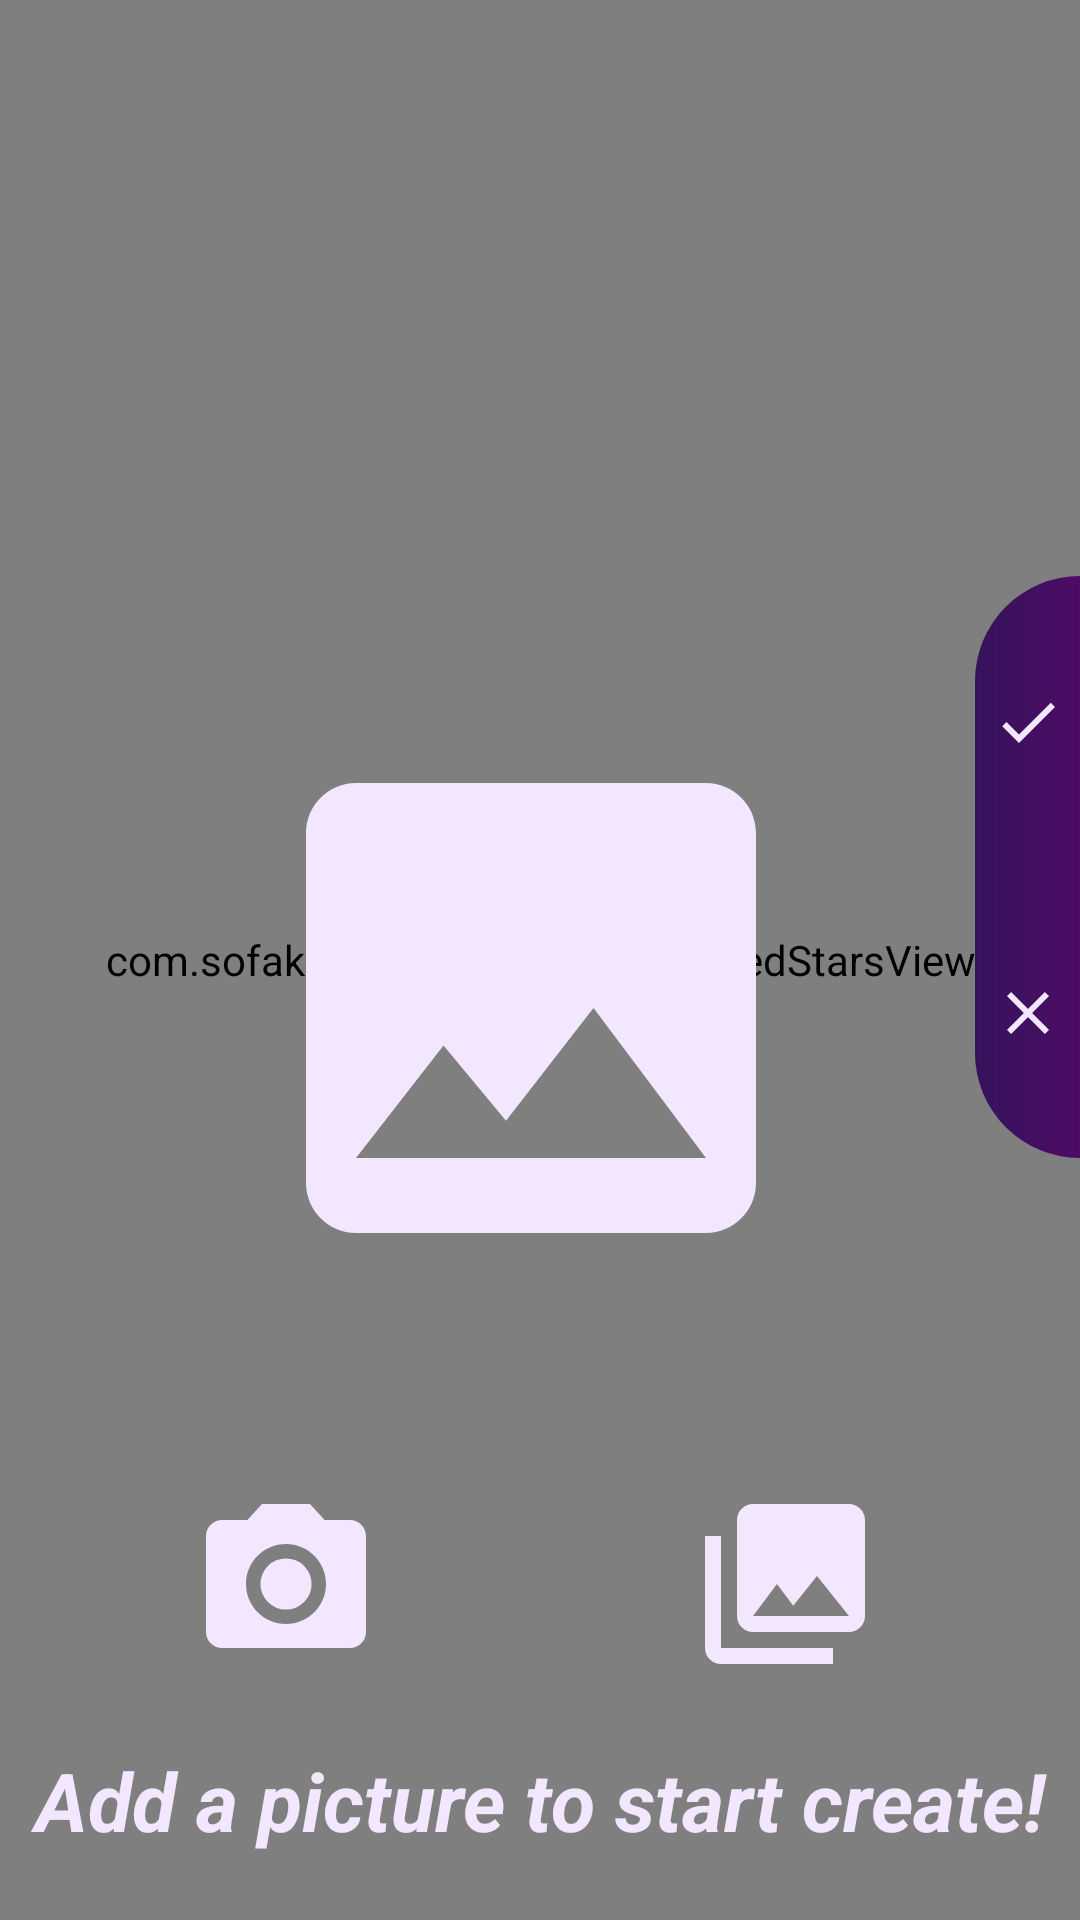

Screen size 1080×1920. Icon name, then its box in pixels as region(x1, y1, x2, y2):
check: region(975, 576, 1080, 867)
clear: region(975, 867, 1080, 1158)
photo camera: region(206, 1504, 366, 1648)
photo library: region(705, 1504, 865, 1664)
